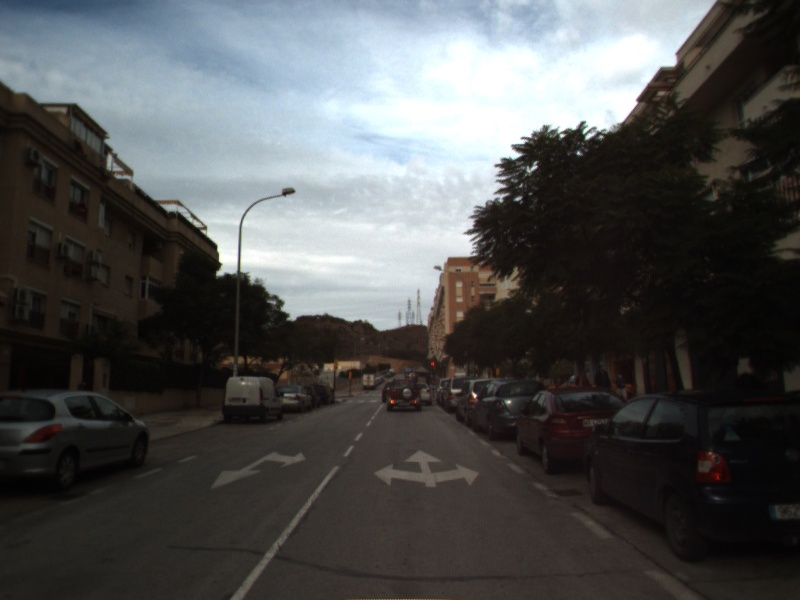STRAIGHT_LEFT_RIGHT: (371, 447, 482, 489)
